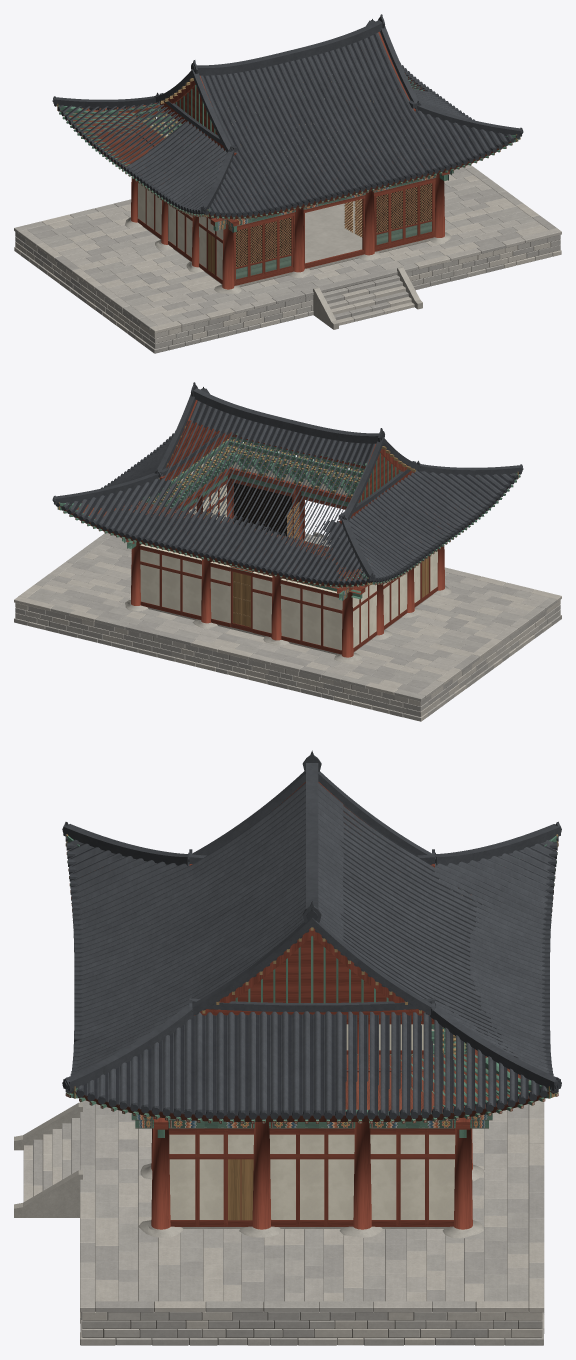
The model's file is daeung.glb.
3 views of the same model, one above another, from view 1: azimuth 30°, elevation 25°; view 2: azimuth 150°, elevation 25°; view 3: azimuth 270°, elevation 25° (orthographic). The views are drawn at different scales.
Visible parts, largest first — view 1: roofB, part_b32, part_b24, doriB, part_b05, part_b13, chunyeo1-1, cho00, part_lattice42, mak0-1-1, part_hana43, part_wall44 (+7 smaller); view 2: roofB, doriB, part_wall44, part_b05, part_b24, part_b13, part_b32, chunyeo1-1, changbangB, mak0-1-1, chunyeoEnd1-1, part_rafter703 (+5 smaller); view 3: roofB, doriB, part_b13, part_b24, part_b32, part_wall44, chunyeo1-1, part_b05, mak0-1-1, cho00, eaveBand, gidan (+4 smaller).
Boxes of the visible parts, x1,y1,x2,y2 form: roofB: (59,31,515,215); part_b32: (15,167,560,353); part_b24: (14,175,561,339); doriB: (131,31,449,289); part_b05: (18,165,561,346); part_b13: (14,166,535,348); chunyeo1-1: (53,14,522,212); cho00: (125,199,451,329); part_lattice42: (236,183,431,267); mak0-1-1: (52,62,523,217); part_hana43: (237,184,430,265); part_wall44: (138,98,324,279); roofB: (60,400,515,583); doriB: (126,400,444,657); part_wall44: (140,451,437,650); part_b05: (26,538,552,713); part_b24: (14,553,561,721); part_b13: (14,533,560,721); part_b32: (14,535,561,717); chunyeo1-1: (53,382,522,580); changbangB: (60,436,517,600); mak0-1-1: (52,422,523,585); chunyeoEnd1-1: (57,426,518,587); part_rafter703: (58,433,520,587); roofB: (67,782,556,1116); doriB: (151,782,472,1229); part_b13: (62,1115,544,1345); part_b24: (23,1119,544,1345); part_b32: (33,1100,544,1345); part_wall44: (169,1024,455,1219); chunyeo1-1: (62,750,561,1090); part_b05: (23,1100,544,1345); mak0-1-1: (62,834,561,1119); cho00: (14,1102,484,1238); eaveBand: (67,842,555,1121); gidan: (83,1104,541,1344).
Size of the model in its own units: 25.92 by 13.11 by 18.3.
Materials: 24 (20 with a texture image).
